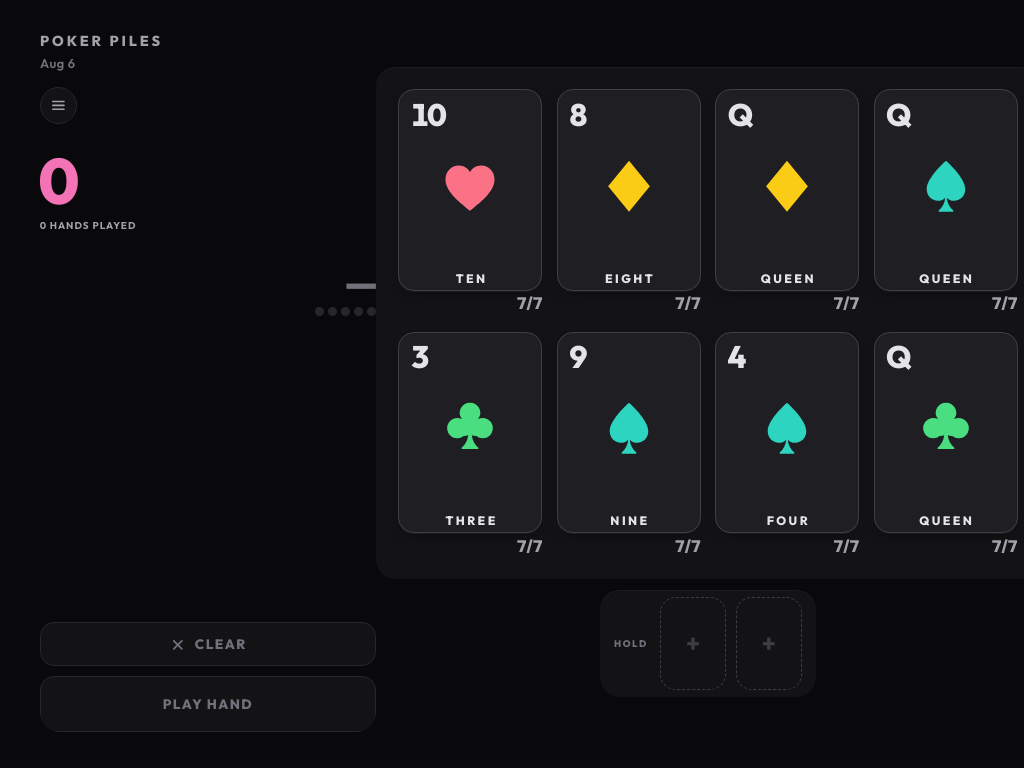
Test: App › deals a fresh playing board
This screenshot has width=1024, height=768.
Expected: the text named "Score 0" is shown, [40,140,75,221]
Expected: the text "0 hands played" is shown, [40,219,136,232]
Click the button named "Menu".
click(58, 105)  # box [40,87,77,124]
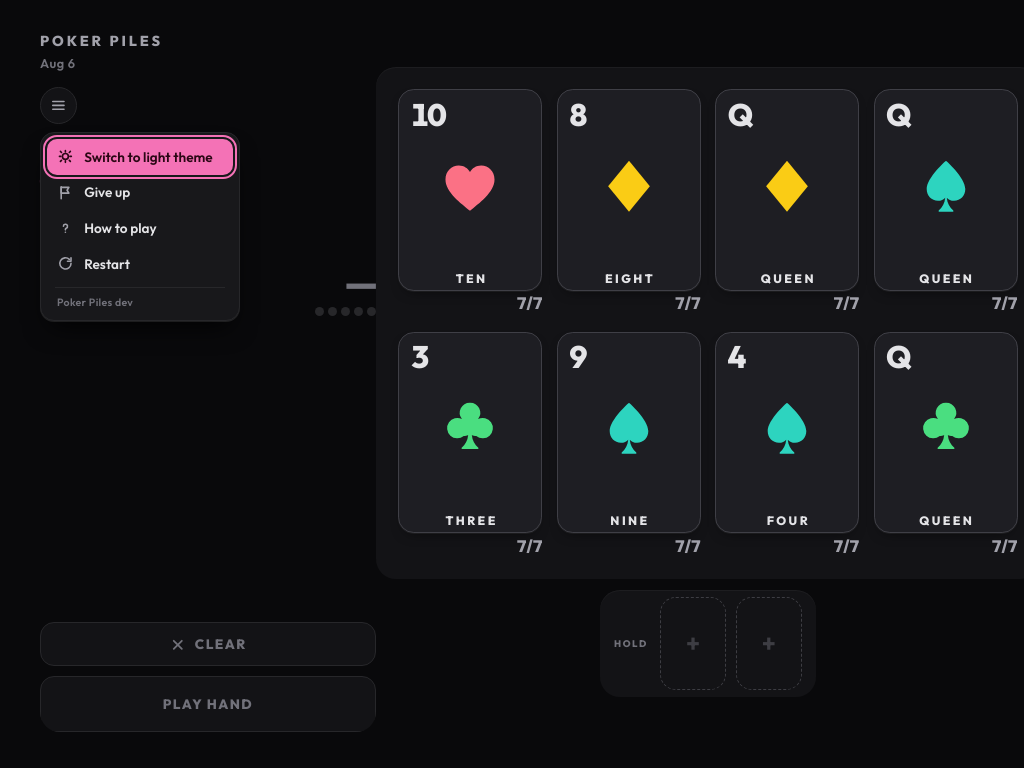
Expected: the button "Give up" is shown, [47,175,233,210]
